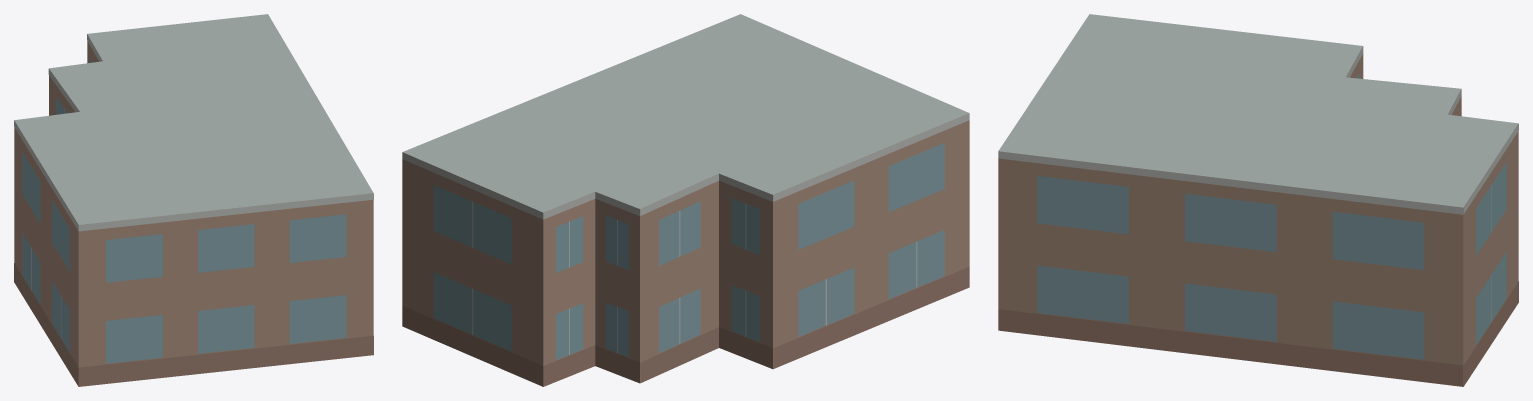
The model's file is survey-upis-32873671.glb.
The picture shows the model from 3 angles, left to right: view 1: azimuth 30°, elevation 25°; view 2: azimuth 150°, elevation 25°; view 3: azimuth 270°, elevation 25°; orthographic projection. The views are drawn at different scales.
Parts seen in each view (by area): view 1: survey-upis-32873671.tmp; view 2: survey-upis-32873671.tmp; view 3: survey-upis-32873671.tmp.
Part boxes in pixels (x1=…): survey-upis-32873671.tmp: x1=14, y1=14, x2=373, y2=386; survey-upis-32873671.tmp: x1=402, y1=14, x2=969, y2=386; survey-upis-32873671.tmp: x1=998, y1=14, x2=1518, y2=386.
Size of the model in its own units: 14.14 by 6.1 by 16.06.
